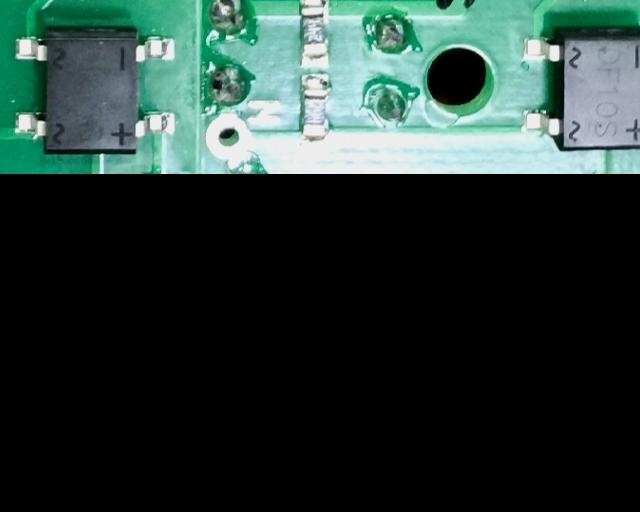chip-resistor: (296, 72, 332, 150), (295, 0, 329, 70)
ic: (10, 25, 178, 158), (517, 24, 640, 154)
